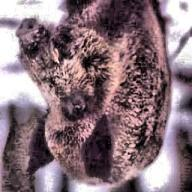boar: (15, 1, 173, 188)
